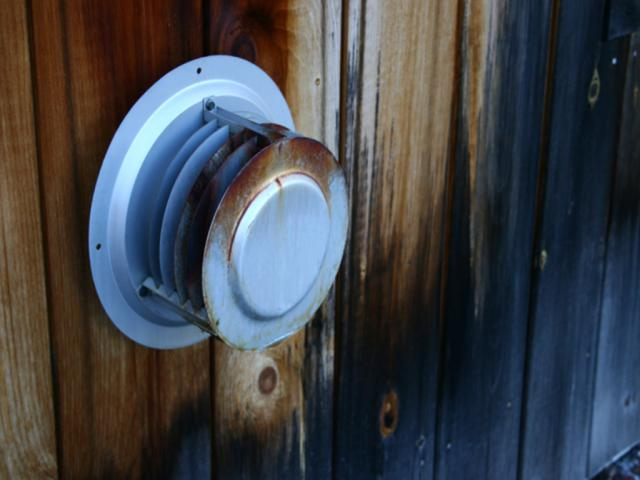Door-handle: (88, 54, 351, 349)
